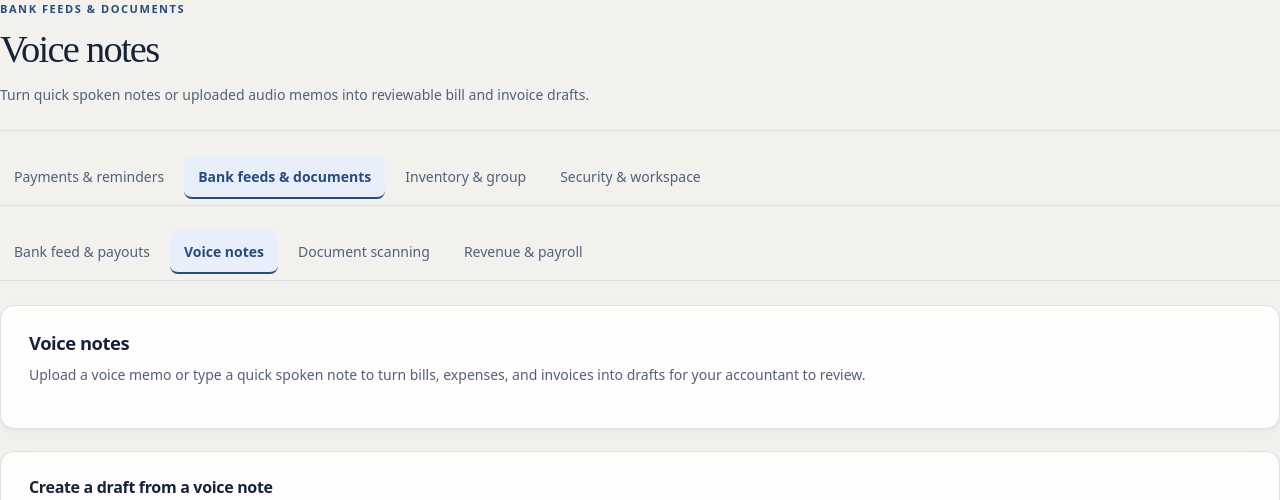
Test: renders P3 automation tabs, workspace channel connector, and empty step-up 2FA input
Earlier steps of the test are not shown.
Later steps or results of the test are not shown.
Expected: the 2nd heading "Voice notes" is shown, [29,330,129,355]
What coordinates should you click on to do the following:
click the tab "Document scanning"
I would click on:
 (364, 252)
Its box is [284,230,444,274].
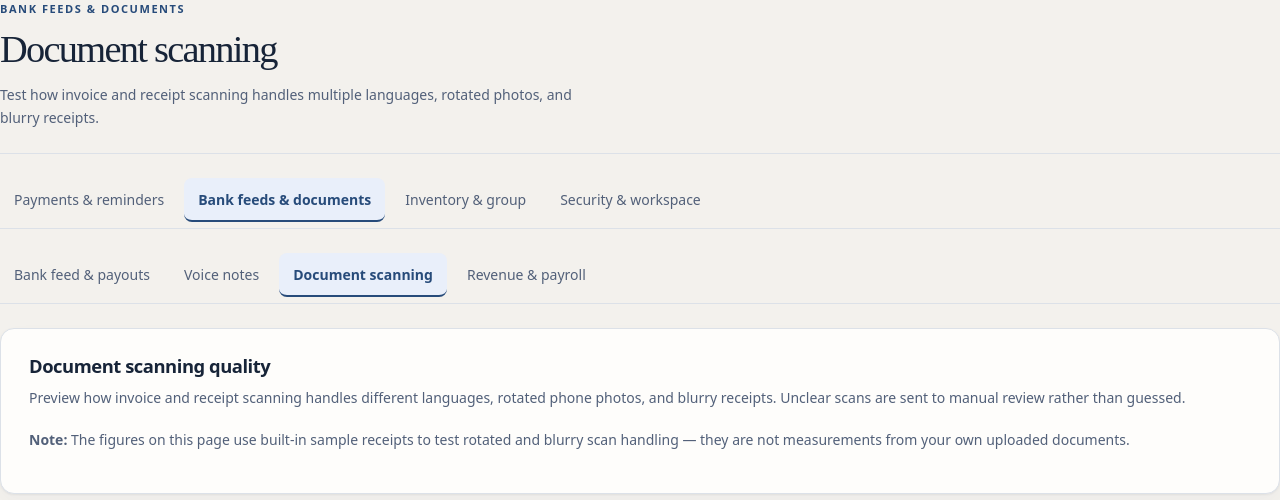
Expected: the heading "Document scanning quality" is shown, [29,353,270,378]
What coordinates should you click on to do the following:
click the tab "Revenue & payroll"
I would click on:
 (526, 275)
Its box is [453,253,600,297].
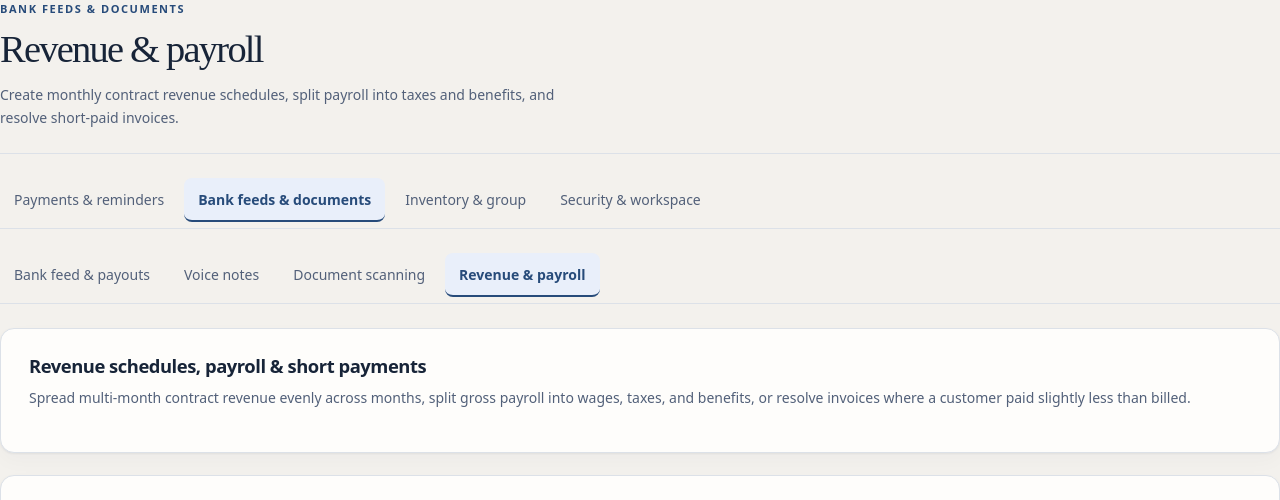
Expected: the heading "Revenue schedules, payroll & short payments" is shown, [29,353,426,378]
What coordinates should you click on to do the following:
click the tab "Inventory & group"
I would click on:
 (466, 200)
Its box is [391,178,540,222].
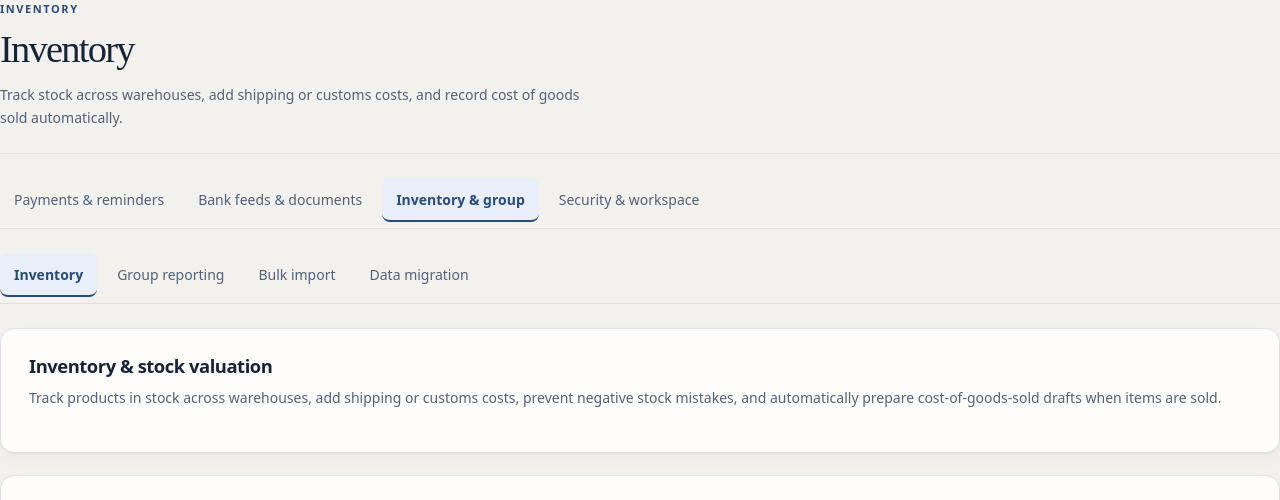
Expected: the heading "Inventory & stock valuation" is shown, [29,353,272,378]
What coordinates should you click on to do the following:
click the tab "Group reporting"
I would click on:
 (171, 275)
Its box is [103,253,238,297].
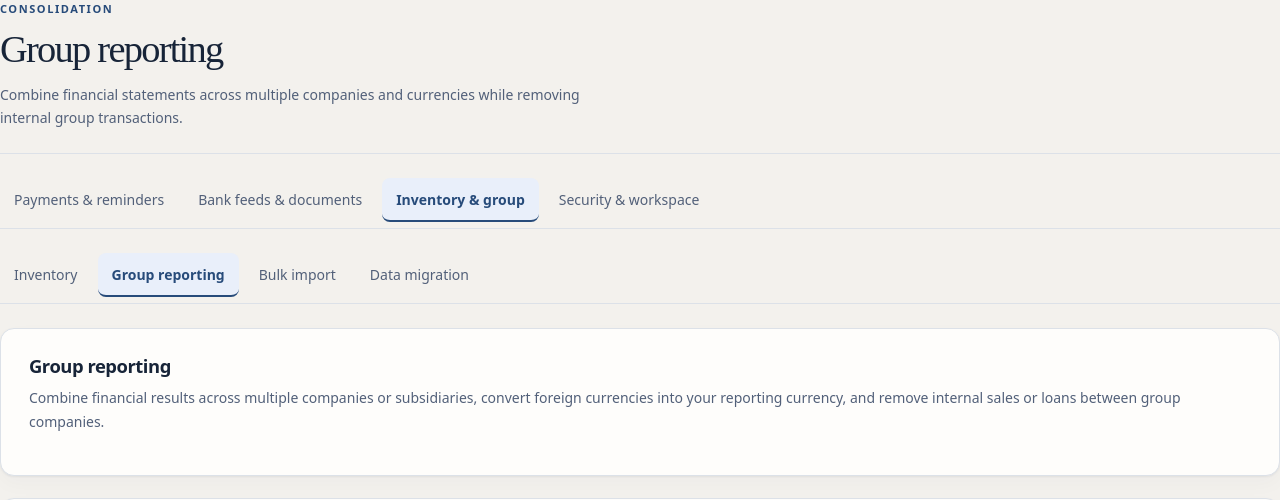
Expected: the 2nd heading "Group reporting" is shown, [29,353,171,378]
What coordinates should you click on to do the following:
click the tab "Bulk import"
I would click on:
 (297, 275)
Its box is [245,253,350,297].
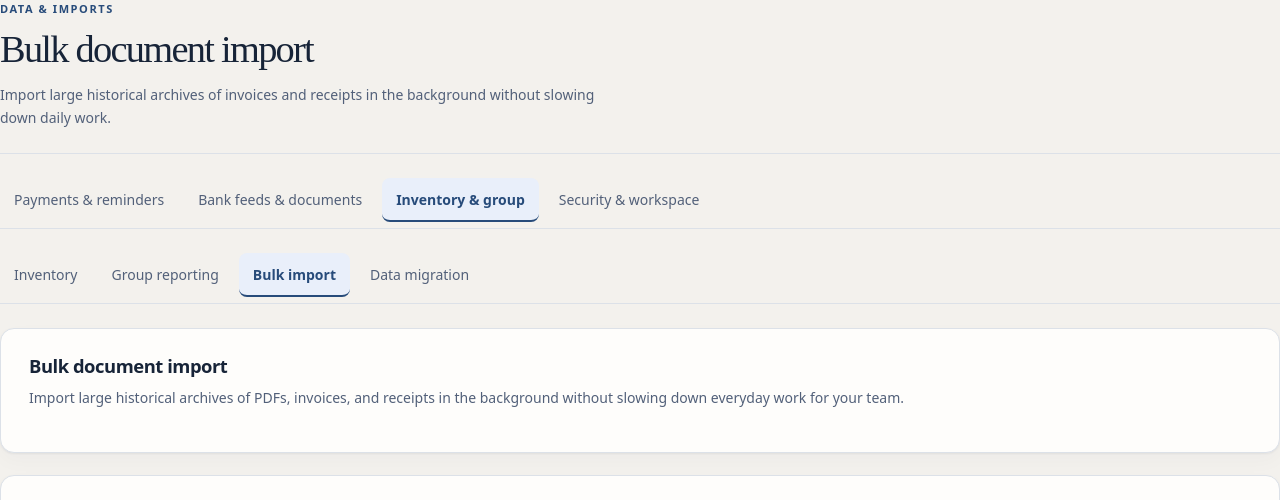
Expected: the 2nd heading "Bulk document import" is shown, [29,353,227,378]
What coordinates should you click on to do the following:
click the tab "Data migration"
I would click on:
 (420, 275)
Its box is [356,253,483,297].
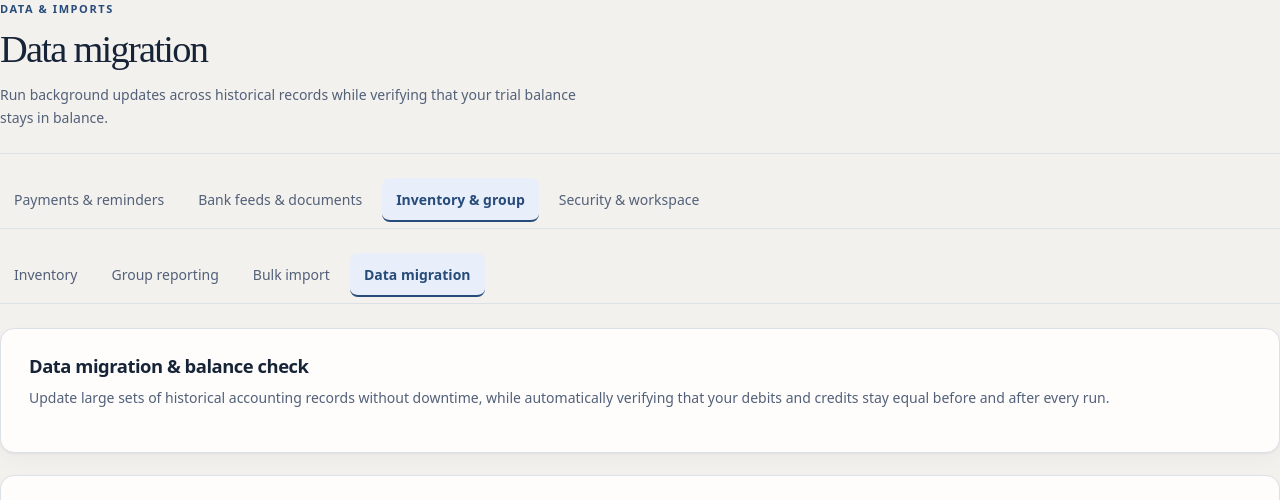
Expected: the heading "Data migration & balance check" is shown, [29,353,308,378]
